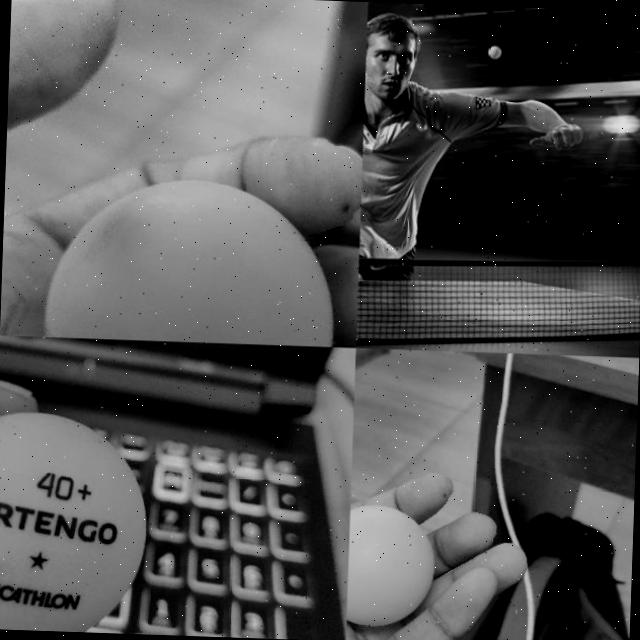ping-pong-ball: (45, 173, 336, 346), (0, 410, 149, 633), (346, 502, 435, 626), (488, 44, 500, 57)
